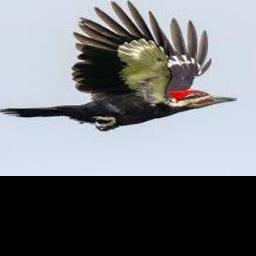Woodpecker: (0, 0, 239, 132)
